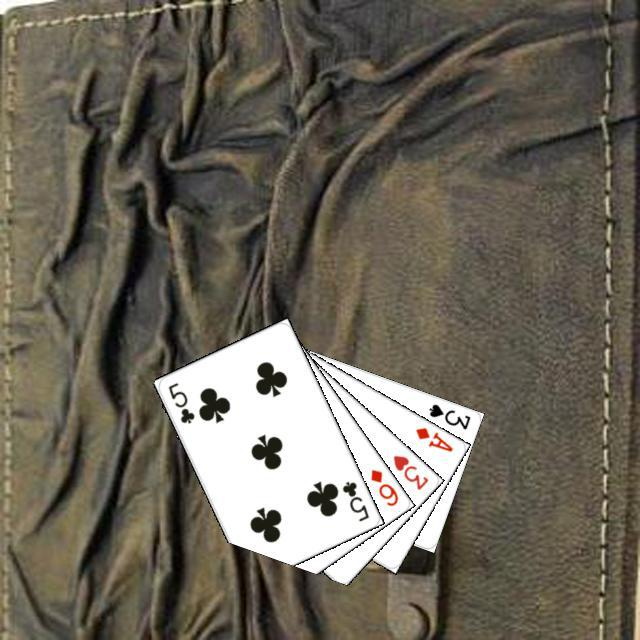3h: (388, 450, 430, 492)
3s: (424, 399, 472, 431)
5c: (337, 476, 371, 523), (163, 378, 196, 425)
6d: (365, 464, 400, 508)
Ad: (411, 422, 455, 454)
